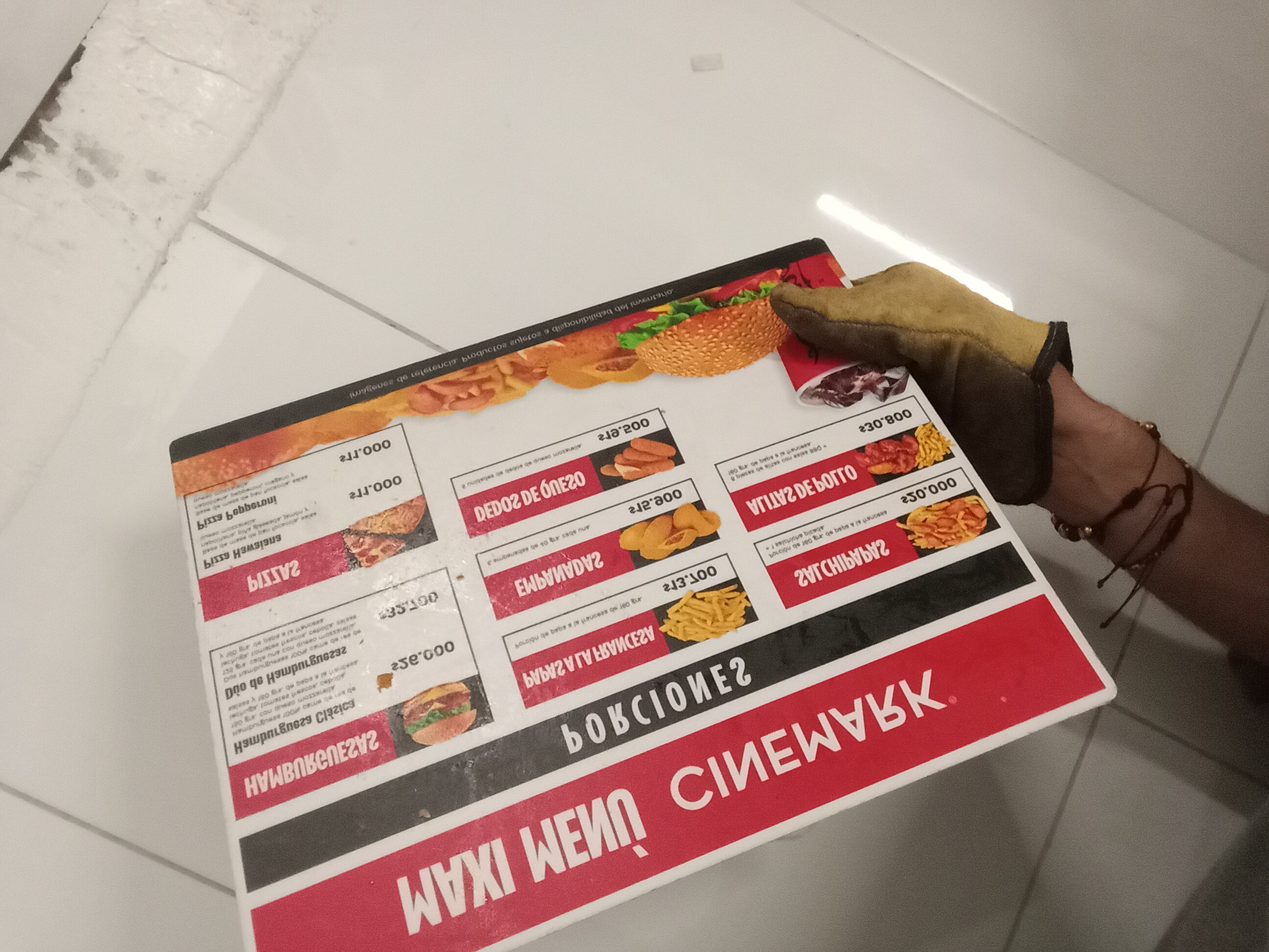Papel: (170, 238, 1119, 952)
